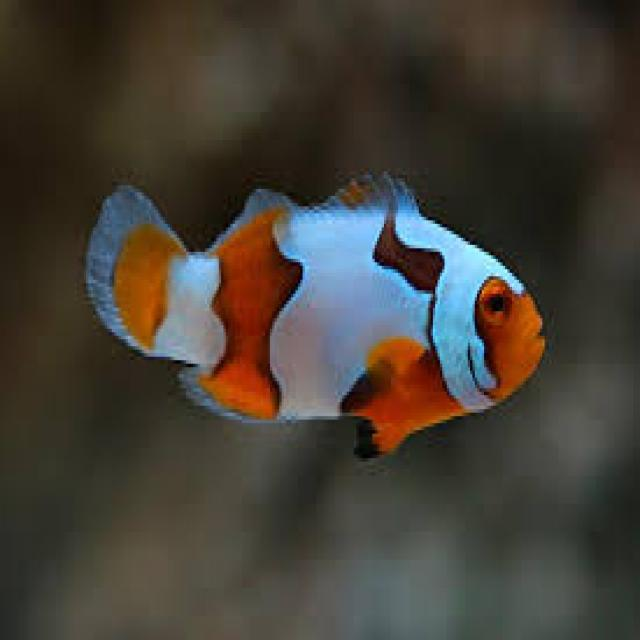Amphiprion-percula: (71, 128, 562, 526)
